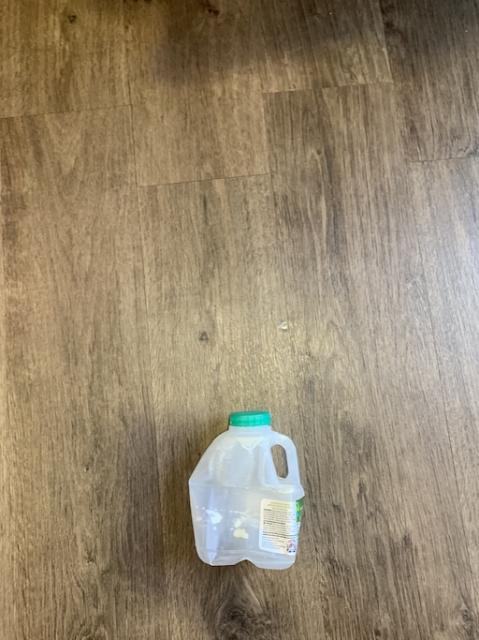plastic: (188, 409, 304, 567)
